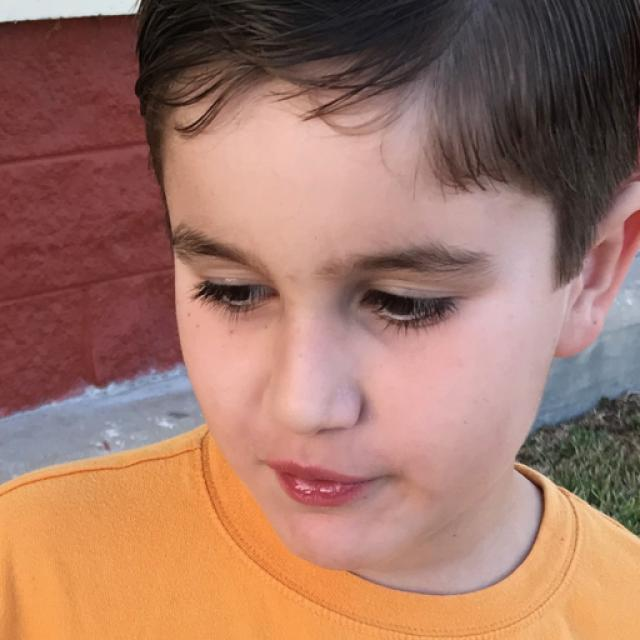content: (174, 78, 558, 572)
